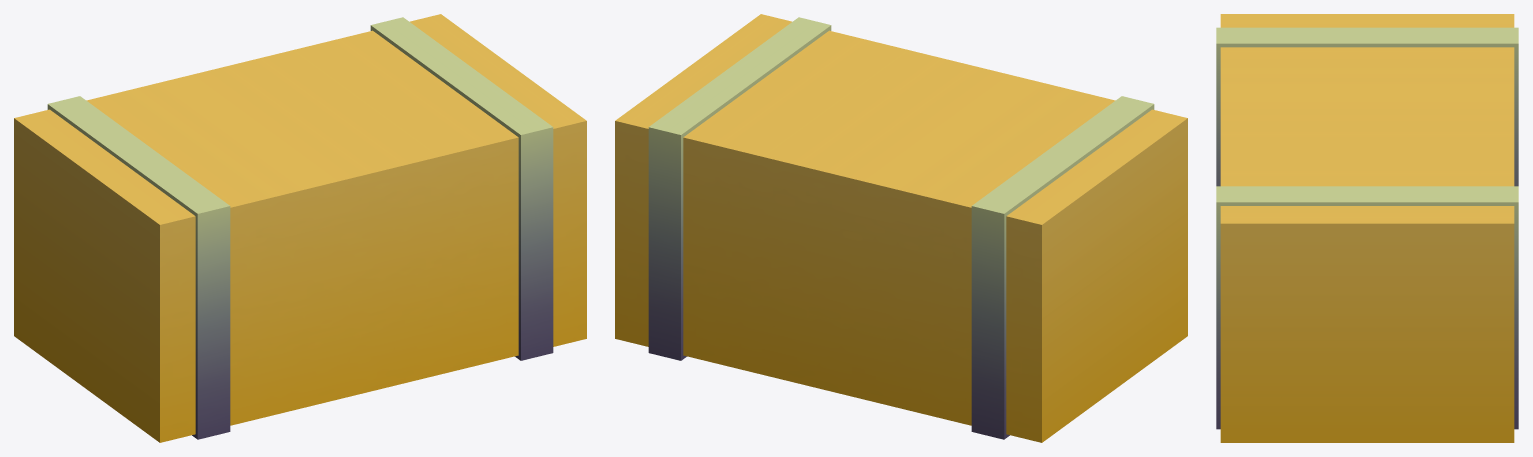
Rendered from hay.obj.
3 renders of one model, left to right at view 1: azimuth 30°, elevation 25°; view 2: azimuth 150°, elevation 25°; view 3: azimuth 270°, elevation 25°, orthographic.
Parts seen in each view (by area): view 1: hay_sm; view 2: hay_sm; view 3: hay_sm.
Boxes of the visible parts, x1,y1,x2,y2 form: hay_sm: (14, 14, 586, 442); hay_sm: (615, 14, 1187, 442); hay_sm: (1216, 14, 1518, 442).
Bounding box in the file's own units: 1.76 × 0.8878 × 1.07.
